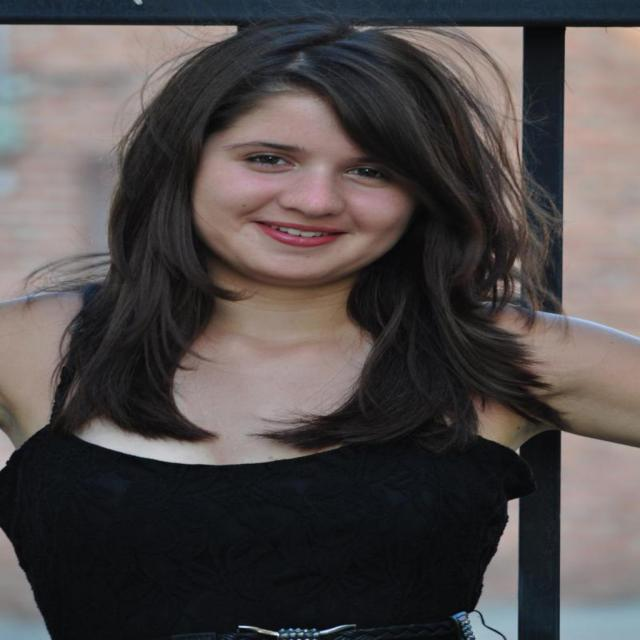nomask: (203, 85, 421, 283)
